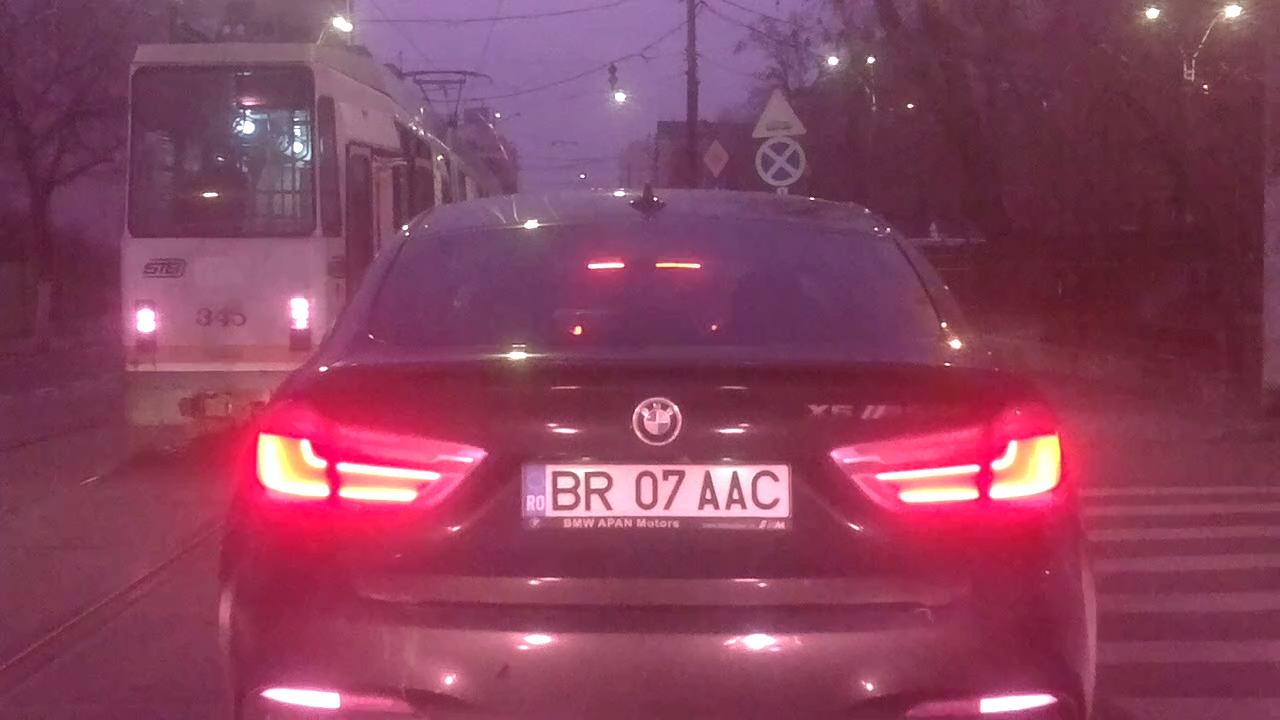license-plate: (516, 459, 795, 522)
